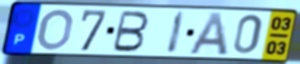0: (231, 13, 264, 57)
7: (79, 8, 108, 52)
A: (187, 11, 230, 57)
B: (110, 10, 151, 54)
I: (165, 10, 187, 56)
O: (35, 7, 75, 52)
